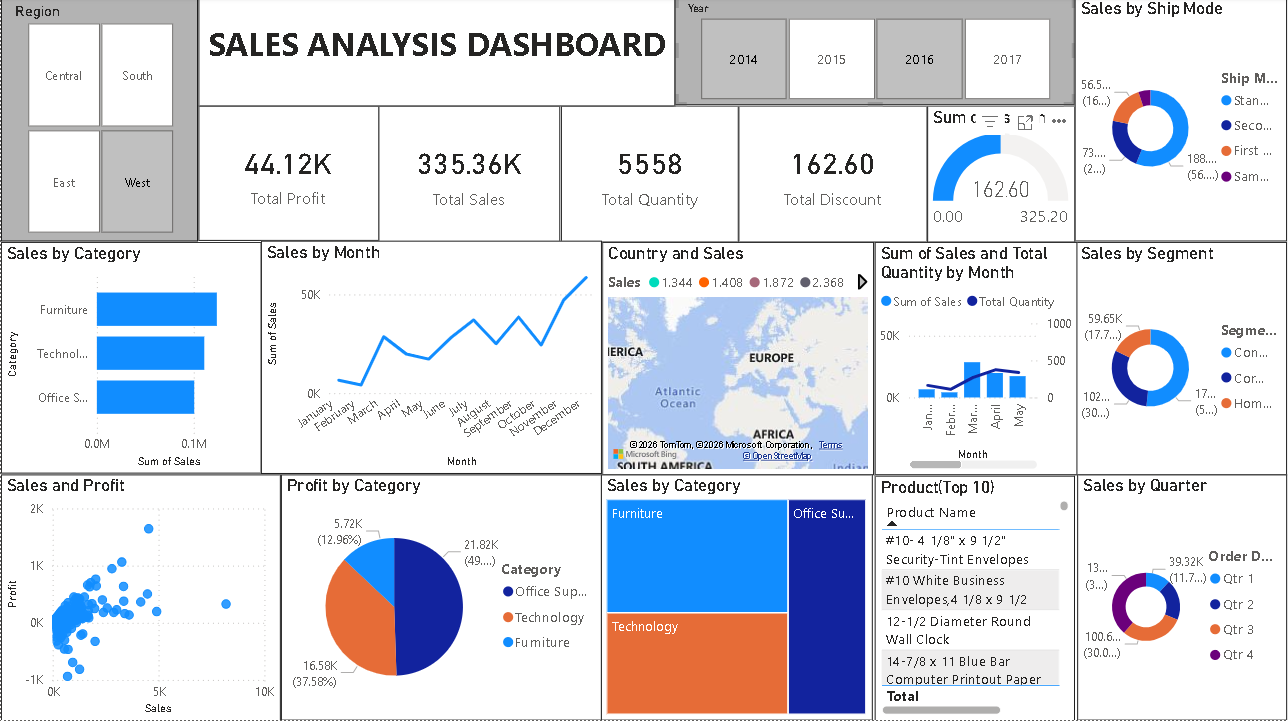

Layout of this report page (visuals, bound fields, positions):
{"tool":"powerbi","page":{"name":"Page 1","canvas":[1280,720],"ordinal":0},"visuals":[{"type":"card","fields":{"Values":["sample_-_superstore xls - Orders.Total Profit"]},"box":[196.2,108.4,179.8,134.5],"z":0},{"type":"card","fields":{"Values":["sample_-_superstore xls - Orders.Total Sales"]},"box":[376,108.4,181.1,135.8],"z":1000},{"type":"card","fields":{"Values":["sample_-_superstore xls - Orders.Total Quantity"]},"box":[557.1,108.4,177,135.8],"z":2000},{"type":"card","fields":{"Values":["sample_-_superstore xls - Orders.Total Discount"]},"box":[734.1,108.4,188,135.8],"z":3000},{"type":"barChart","title":"Sales by Category ","fields":{"Y":["Sum(sample_-_superstore xls - Orders.Sales)"],"Category":["sample_-_superstore xls - Orders.Category"]},"box":[0,244.3,259.3,230.5],"z":4000},{"type":"lineChart","title":"Sales by Month","fields":{"Y":["Sum(sample_-_superstore xls - Orders.Sales)"],"Category":["sample_-_superstore xls - Orders.Order Date.Variation.Date Hierarchy.Month"]},"box":[259.3,242.9,338.9,231.9],"z":5000},{"type":"map","fields":{"Series":["sample_-_superstore xls - Orders.Sales"],"Category":["sample_-_superstore xls - Orders.Country"]},"box":[598.3,244.3,270.3,231.9],"z":6000},{"type":"scatterChart","fields":{"X":["sample_-_superstore xls - Orders.Sales"],"Y":["sample_-_superstore xls - Orders.Profit"]},"box":[0,474.8,278.6,245.6],"z":7000},{"type":"pieChart","title":"Profit by Category","fields":{"Category":["sample_-_superstore xls - Orders.Category"],"Y":["Sum(sample_-_superstore xls - Orders.Profit)"]},"box":[279,475,319,245],"z":8000},{"type":"treemap","title":"Sales by Category","fields":{"Group":["sample_-_superstore xls - Orders.Category"],"Values":["Sum(sample_-_superstore xls - Orders.Sales)"]},"box":[597.5,475,270,245],"z":9000},{"type":"gauge","fields":{"Y":["Sum(sample_-_superstore xls - Orders.Discount)"]},"box":[922.1,108.4,146.8,135.8],"z":10000},{"type":"slicer","fields":{"Values":["sample_-_superstore xls - Orders.Order Date.Variation.Date Hierarchy.Year"]},"box":[671,0,397.9,108.4],"z":10001},{"type":"donutChart","title":"Sales by Ship Mode","fields":{"Y":["Sum(sample_-_superstore xls - Orders.Sales)"],"Category":["sample_-_superstore xls - Orders.Ship Mode"]},"box":[1069,0,211.3,242.9],"z":10002},{"type":"donutChart","title":"Sales by Segment","fields":{"Y":["Sum(sample_-_superstore xls - Orders.Sales)"],"Category":["sample_-_superstore xls - Orders.Segment"]},"box":[1069,244.3,211.3,231.9],"z":10003},{"type":"donutChart","title":"Sales by Quarter","fields":{"Y":["Sum(sample_-_superstore xls - Orders.Sales)"],"Category":["sample_-_superstore xls - Orders.Order Date.Variation.Date Hierarchy.Quarter"]},"box":[1071.2,475,208.8,245],"z":10004},{"type":"slicer","fields":{"Values":["sample_-_superstore xls - Orders.Region"]},"box":[0,0,196.2,242.9],"z":10005},{"type":"textbox","box":[196.2,0,474.8,108.4],"z":10006},{"type":"lineStackedColumnComboChart","fields":{"Y":["Sum(sample_-_superstore xls - Orders.Sales)"],"Category":["sample_-_superstore xls - Orders.Order Date.Variation.Date Hierarchy.Month"],"Y2":["sample_-_superstore xls - Orders.Total Quantity"]},"box":[870,244.3,201.7,231.9],"z":10007},{"type":"tableEx","title":"Product(Top 10)","fields":{"Values":["sample_-_superstore xls - Orders.Product Name","sample_-_superstore xls - Orders.Total Sales"]},"box":[870,476,199,244],"z":10008}]}

Visuals, with their boxes in screenshot pixels (x1, y1, x2, y2), scaled from the page's 1280x720 canvas onto the 1288x721 screenshot:
card - sample_-_superstore xls - Orders.Total Profit: crop(197, 109, 378, 243)
card - sample_-_superstore xls - Orders.Total Sales: crop(378, 109, 561, 245)
card - sample_-_superstore xls - Orders.Total Quantity: crop(561, 109, 739, 245)
card - sample_-_superstore xls - Orders.Total Discount: crop(739, 109, 928, 245)
"Sales by Category " barChart: crop(0, 245, 261, 475)
"Sales by Month" lineChart: crop(261, 243, 602, 475)
map - sample_-_superstore xls - Orders.Sales x sample_-_superstore xls - Orders.Country: crop(602, 245, 874, 477)
scatterChart - sample_-_superstore xls - Orders.Sales x sample_-_superstore xls - Orders.Profit: crop(0, 475, 280, 720)
"Profit by Category" pieChart: crop(281, 476, 602, 720)
"Sales by Category" treemap: crop(601, 476, 873, 720)
gauge - Sum(sample_-_superstore xls - Orders.Discount): crop(928, 109, 1076, 245)
slicer - sample_-_superstore xls - Orders.Order Date.Variation.Date Hierarchy.Year: crop(675, 0, 1076, 109)
"Sales by Ship Mode" donutChart: crop(1076, 0, 1287, 243)
"Sales by Segment" donutChart: crop(1076, 245, 1287, 477)
"Sales by Quarter" donutChart: crop(1078, 476, 1287, 720)
slicer - sample_-_superstore xls - Orders.Region: crop(0, 0, 197, 243)
textbox: crop(197, 0, 675, 109)
lineStackedColumnComboChart - Sum(sample_-_superstore xls - Orders.Sales) x sample_-_superstore xls - Orders.Order Date.Variation.Date Hierarchy.Month: crop(875, 245, 1078, 477)
"Product(Top 10)" tableEx: crop(875, 477, 1076, 720)
